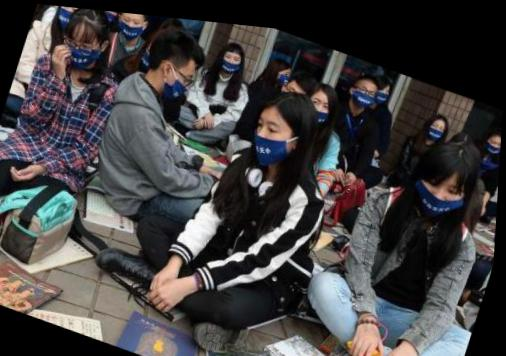OK: (60, 30, 101, 72), (351, 72, 380, 103), (55, 5, 86, 31), (370, 74, 394, 100), (270, 59, 293, 84), (426, 109, 448, 135), (482, 124, 502, 149), (97, 9, 120, 24)
WRONG: (412, 154, 472, 216), (248, 102, 302, 168), (155, 52, 200, 105), (303, 84, 336, 121), (115, 10, 148, 42), (220, 46, 243, 72)
